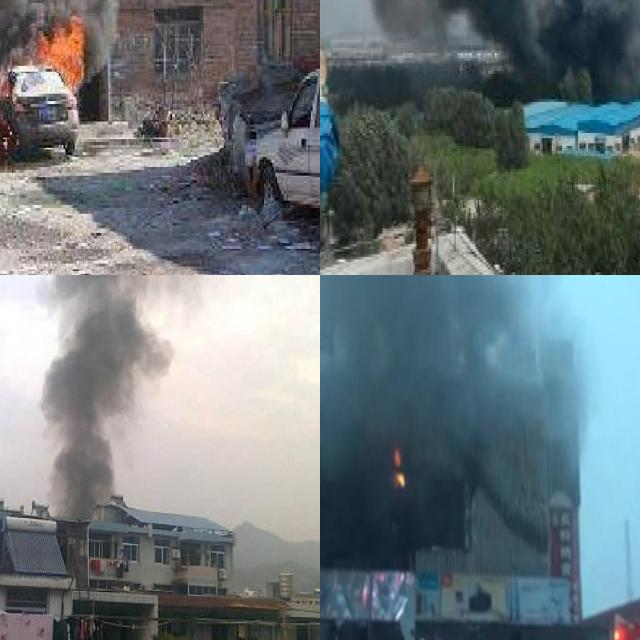fire: (35, 10, 86, 90), (392, 446, 405, 488)
smoke: (320, 275, 592, 505), (34, 275, 291, 515), (320, 0, 640, 101)
